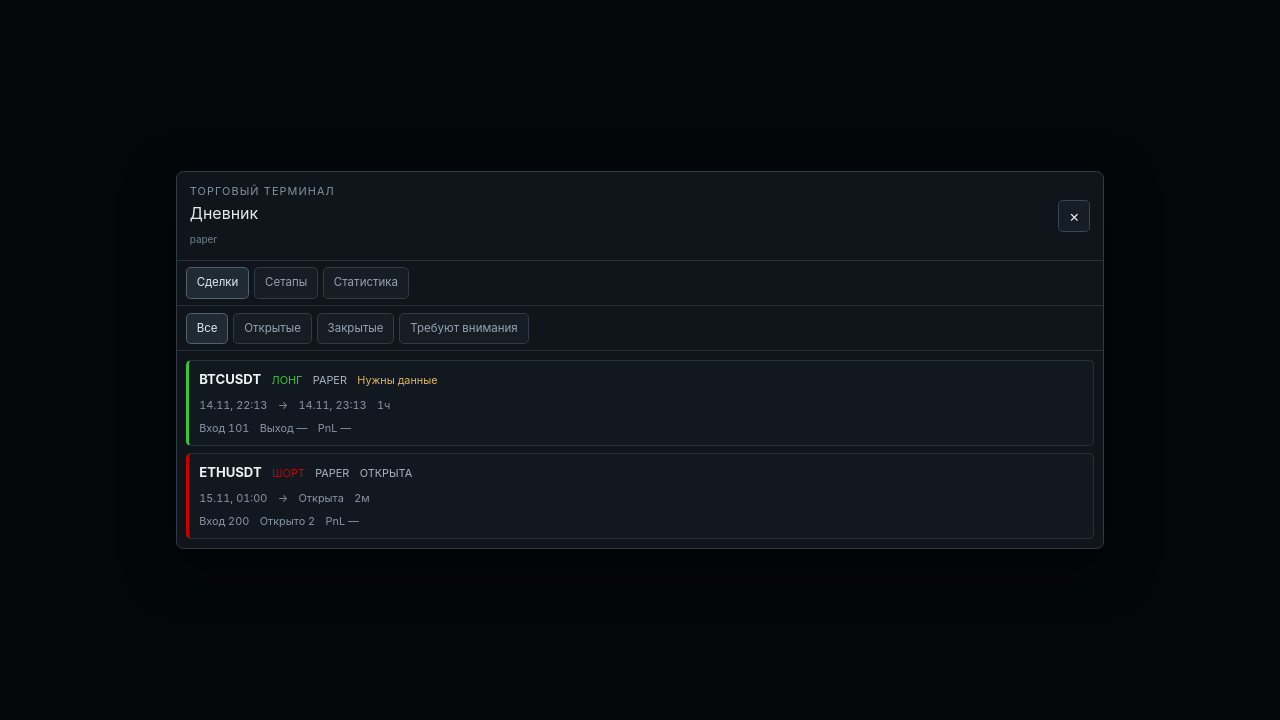
Test: DiaryOverlay › keeps unavailable values missing and filters attention
This screenshot has width=1280, height=720.
Check: the text "BTCUSDT" is shown, box [199,370,261,390]
Check: the text "ETHUSDT" is shown, box [199,463,262,483]
Click the button "Требуют внимания" at (464, 328), box [399,313,529,344]
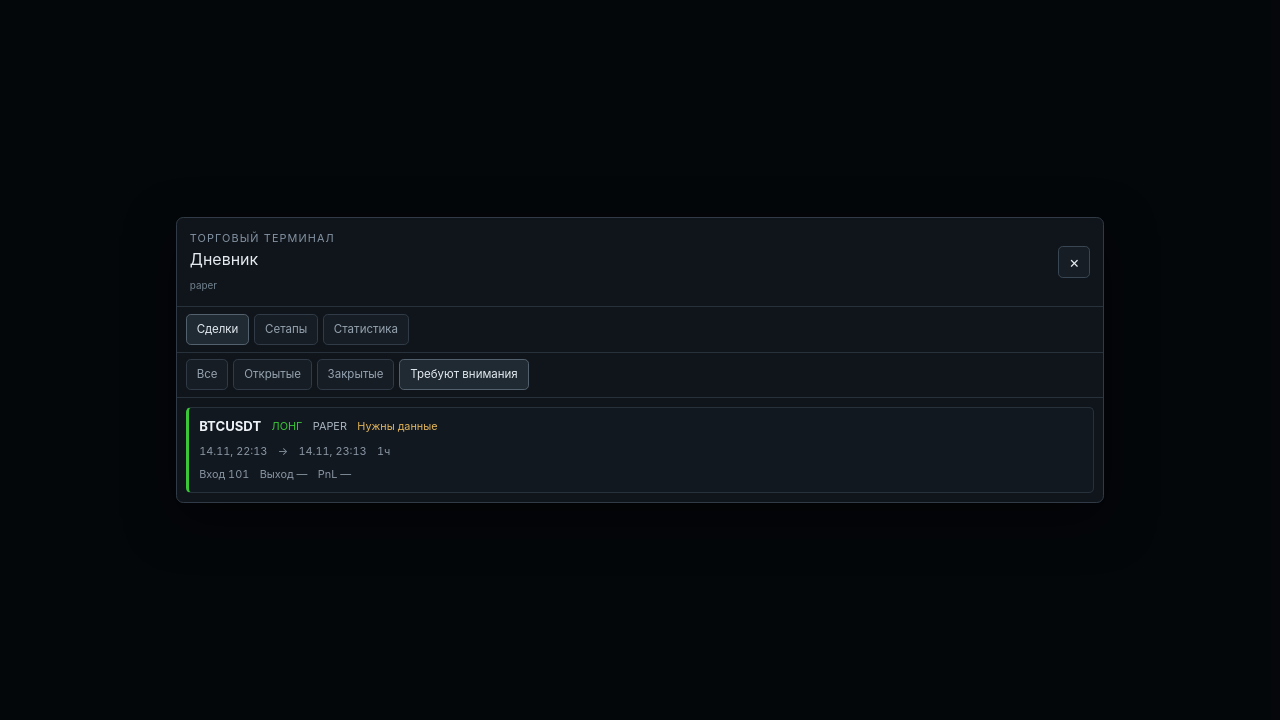
Check: the text "BTCUSDT" is shown, box [199,417,261,436]
Check: the button "ETHUSDT" is gone
